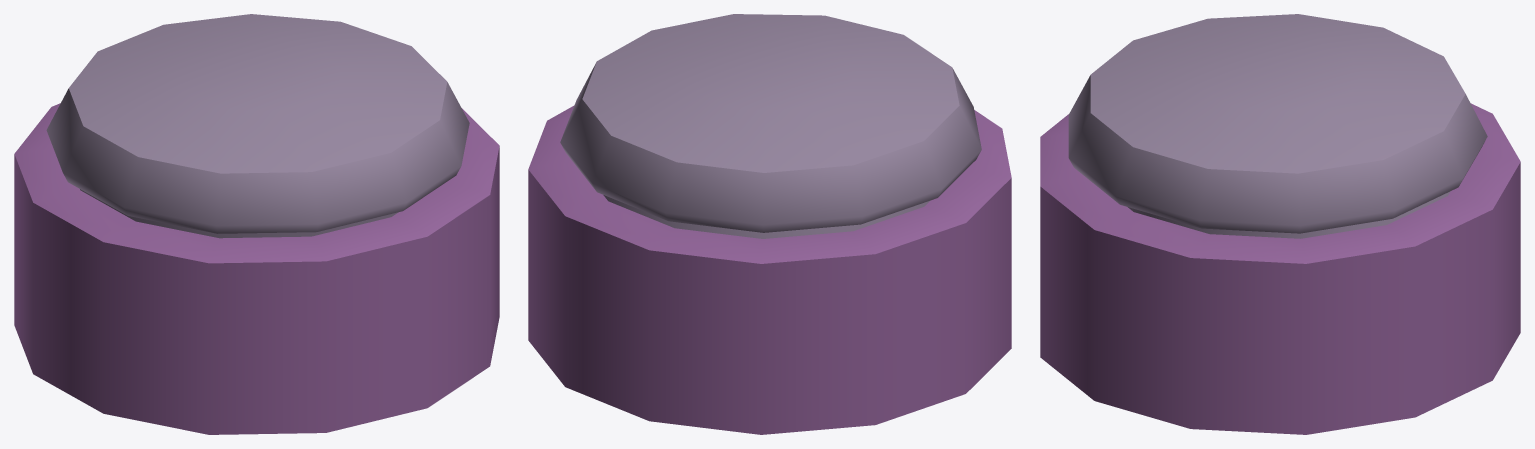
3 views of the same model, side by side, from view 1: azimuth 30°, elevation 25°; view 2: azimuth 150°, elevation 25°; view 3: azimuth 270°, elevation 25° (orthographic).
Visible parts, largest first — view 1: Box4; view 2: Box4; view 3: Box4.
Boxes of the visible parts, x1=… form: Box4: x1=14, y1=14, x2=499, y2=434; Box4: x1=528, y1=14, x2=1011, y2=434; Box4: x1=1040, y1=14, x2=1520, y2=434.
Size of the model in its own units: 19.89 by 19.75 by 11.98.
